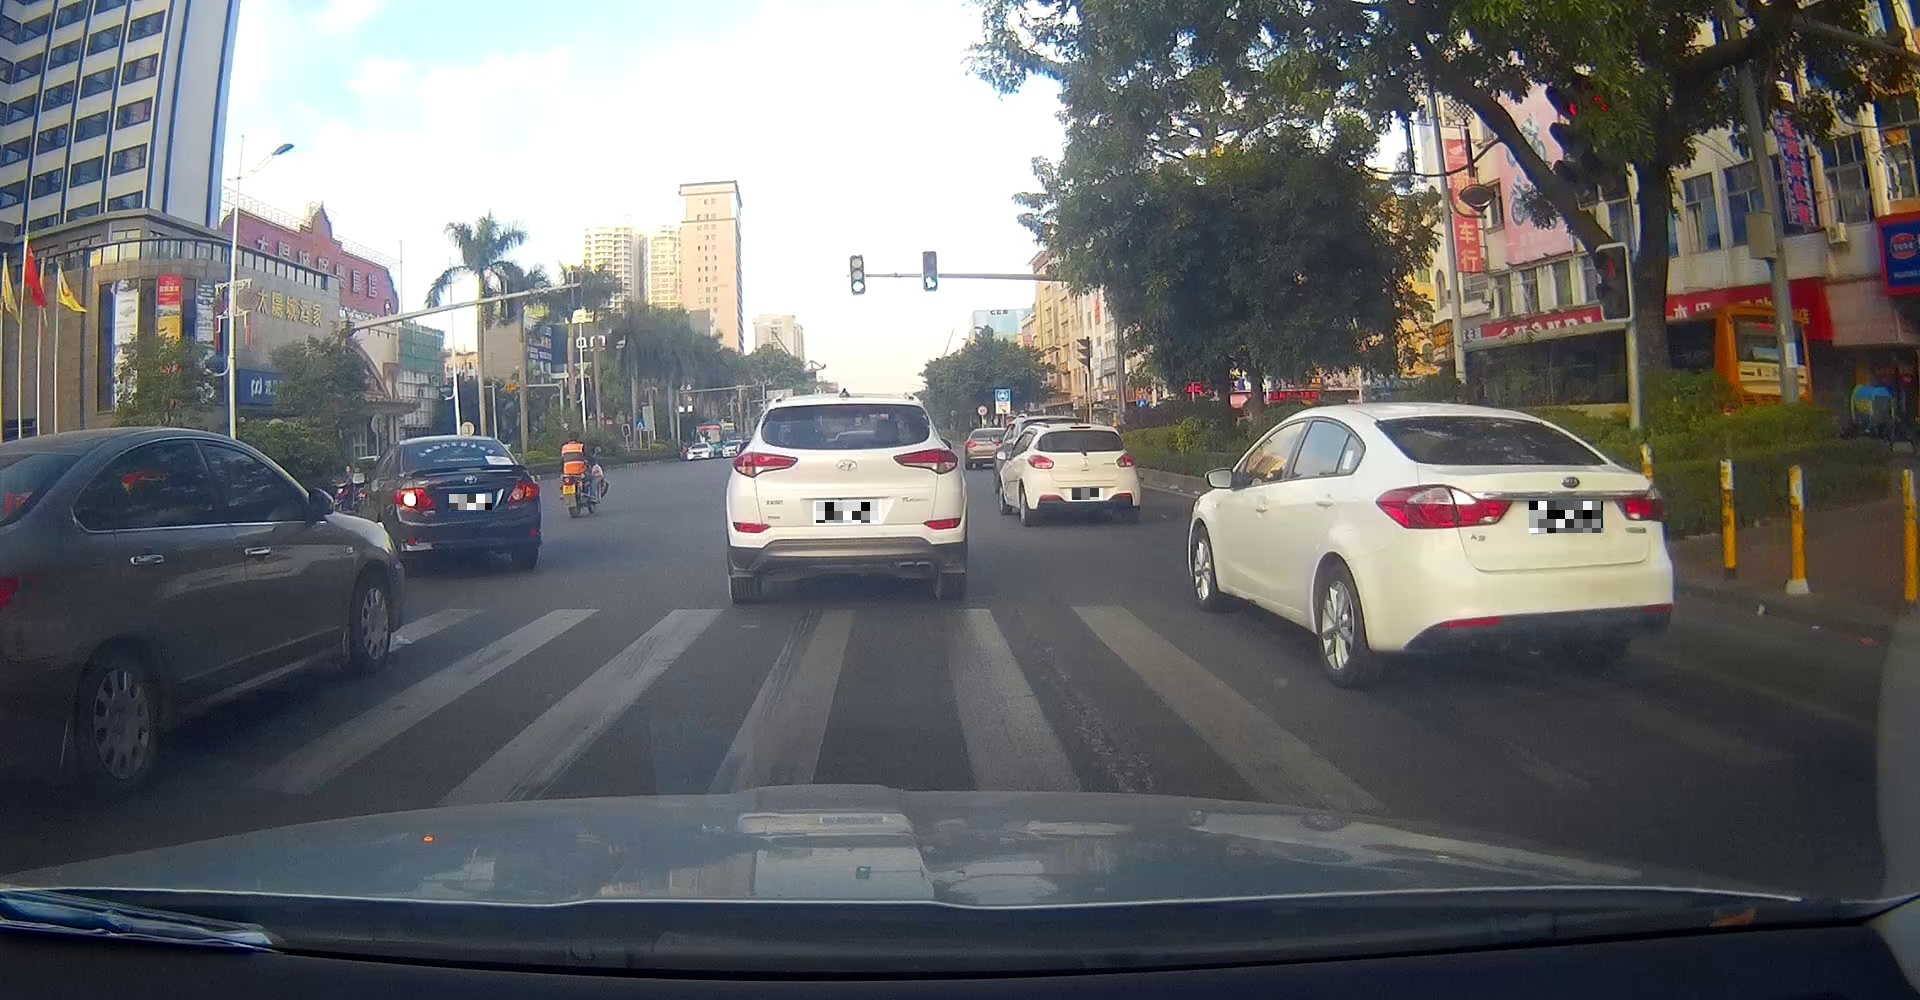L_light: (1375, 484, 1514, 530), (731, 451, 799, 478), (394, 487, 437, 514), (1027, 454, 1054, 470)
R_light: (891, 445, 960, 475), (1615, 485, 1669, 522), (505, 481, 538, 504), (1116, 453, 1135, 467)
T_light: (1501, 454, 1548, 464), (825, 404, 866, 412), (447, 440, 472, 445), (1073, 431, 1092, 435)
day-left: (392, 437, 542, 570)
day-no: (1368, 412, 1674, 690), (728, 398, 968, 602), (1025, 428, 1140, 524)
plate_1: (450, 494, 491, 510)
plate_2: (817, 503, 877, 523)
plate_3: (1072, 489, 1103, 500)
plate_4: (1529, 501, 1603, 533)
